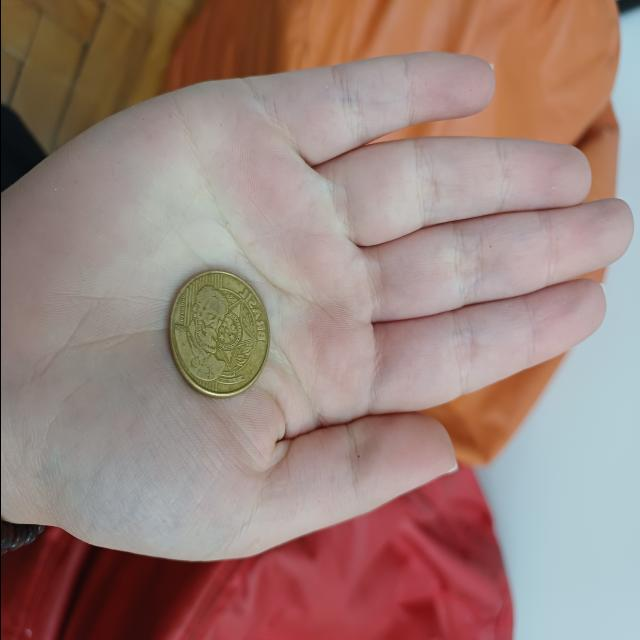25 cents: (165, 260, 274, 397)
